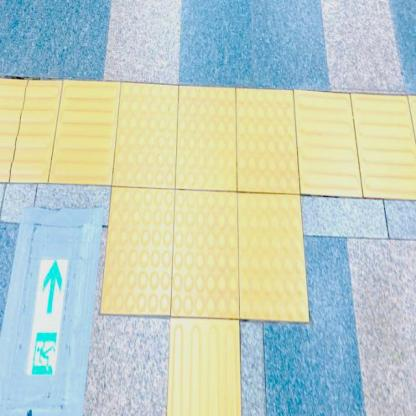podotacti: (71, 52, 331, 362), (303, 83, 415, 208), (0, 79, 111, 189), (168, 316, 241, 415)
